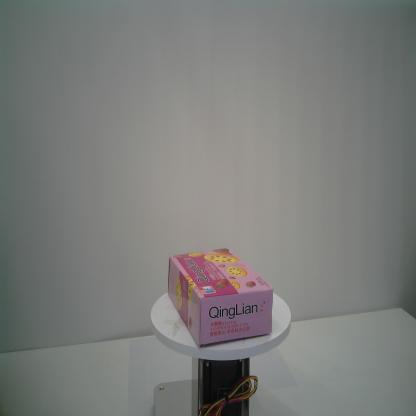Dessert: (167, 248, 274, 346)
